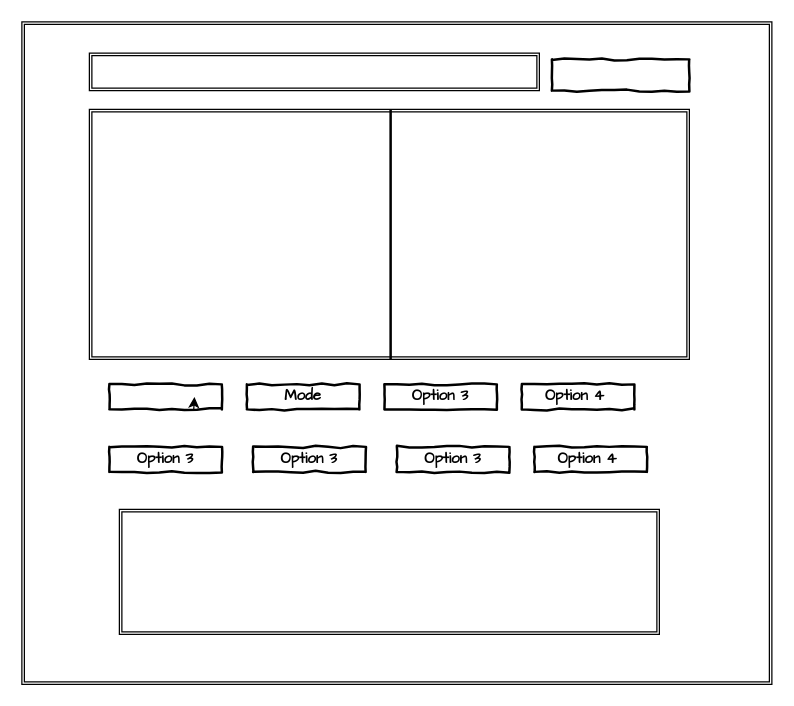
Some shapes in this 794 by 706 pixel diagram are drawn without their labels. The shapes that lost their labels are listed below. From the top down, each one's box as (x1, y1, x2, y2) in pixels, then its label:
(88, 52, 539, 91): input room area
(550, 58, 690, 91): Join
(108, 382, 222, 410): Theme
